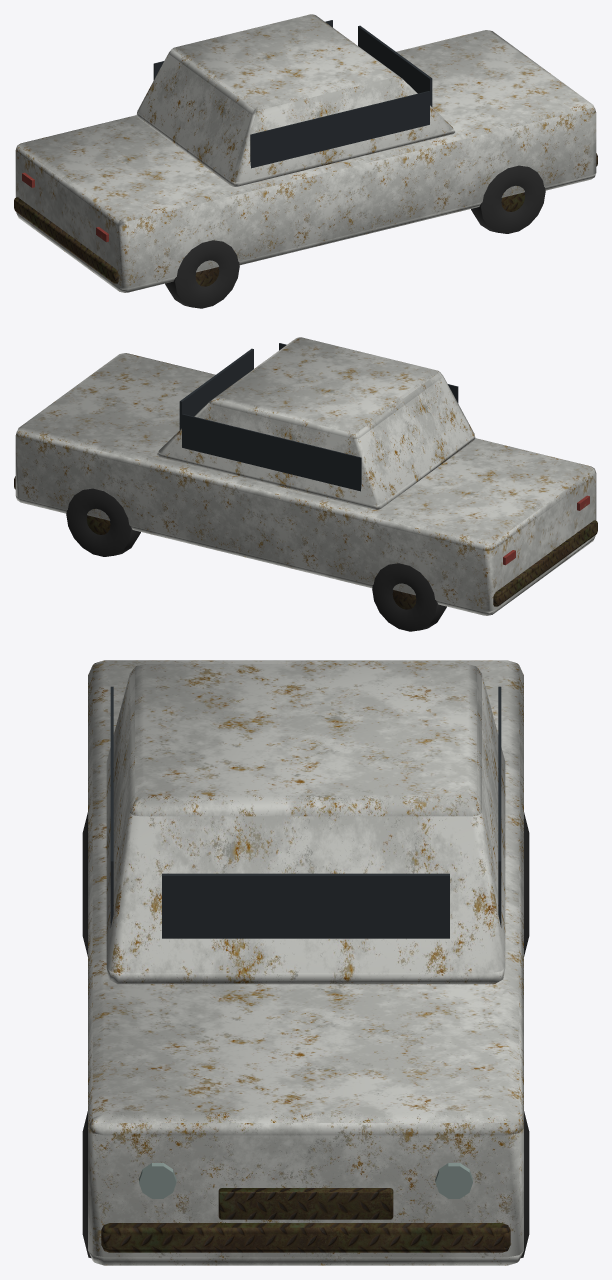
File: veh_sedan.gltf
3 renders of one model, top to bottom at view 1: azimuth 30°, elevation 25°; view 2: azimuth 150°, elevation 25°; view 3: azimuth 270°, elevation 25°, orthographic. The views are drawn at different scales.
Parts seen in each view (by area): view 1: box, box.002, box.003, torus, torus.002, box.001, box.005; view 2: box, box.002, box.004, torus.001, torus.003, box.001, box.005; view 3: box, box.002, box.005, box.001, box.006, cyl.004, cyl.005, box.003, box.004.
Boxes of the visible parts, <box> form: box: <box>15,30,596,292</box>; box.002: <box>136,14,454,186</box>; box.003: <box>250,91,429,168</box>; torus: <box>471,165,545,233</box>; torus.002: <box>165,240,239,308</box>; box.001: <box>14,153,597,283</box>; box.005: <box>358,25,432,106</box>; box: <box>15,353,596,615</box>; box.002: <box>157,337,475,509</box>; box.004: <box>182,414,361,491</box>; torus.001: <box>66,488,140,556</box>; torus.003: <box>372,563,446,631</box>; box.001: <box>14,476,597,606</box>; box.005: <box>179,348,253,429</box>; box: <box>88,660,523,1265</box>; box.002: <box>106,664,505,984</box>; box.005: <box>162,873,449,938</box>; box.001: <box>101,1223,510,1252</box>; box.006: <box>218,1188,393,1219</box>; cyl.004: <box>139,1163,176,1198</box>; cyl.005: <box>435,1163,472,1198</box>; box.003: <box>110,686,113,927</box>; box.004: <box>498,686,501,927</box>.
Bounding box in the file's own units: 4.17 × 1.46 × 1.66.
Materials: 6 (3 with a texture image).
